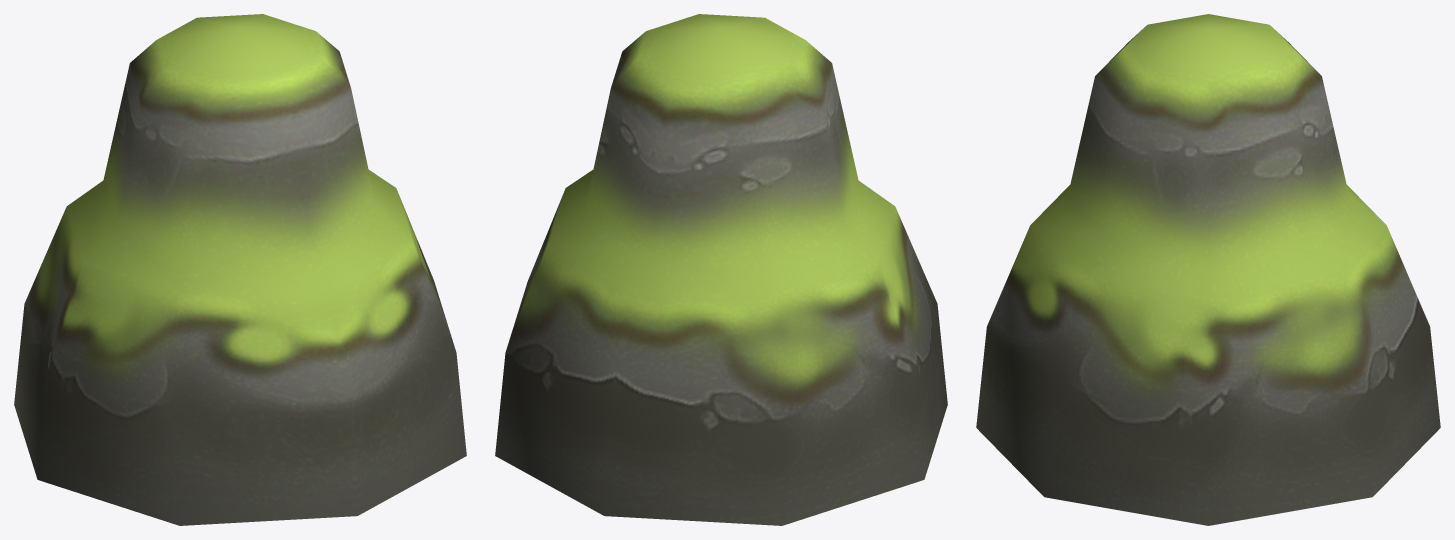
Rendered from Bigmap_dibiao_shitou01.FBX.
3 renders of one model, left to right at view 1: azimuth 30°, elevation 25°; view 2: azimuth 150°, elevation 25°; view 3: azimuth 270°, elevation 25°, orthographic.
Parts seen in each view (by area): view 1: Cylinder05; view 2: Cylinder05; view 3: Cylinder05.
Boxes of the visible parts, bbox=[...] form: Cylinder05: bbox=[14, 14, 466, 525]; Cylinder05: bbox=[495, 14, 947, 525]; Cylinder05: bbox=[976, 14, 1440, 525].
Size of the model in its own units: 34.14 by 32.29 by 34.14.
